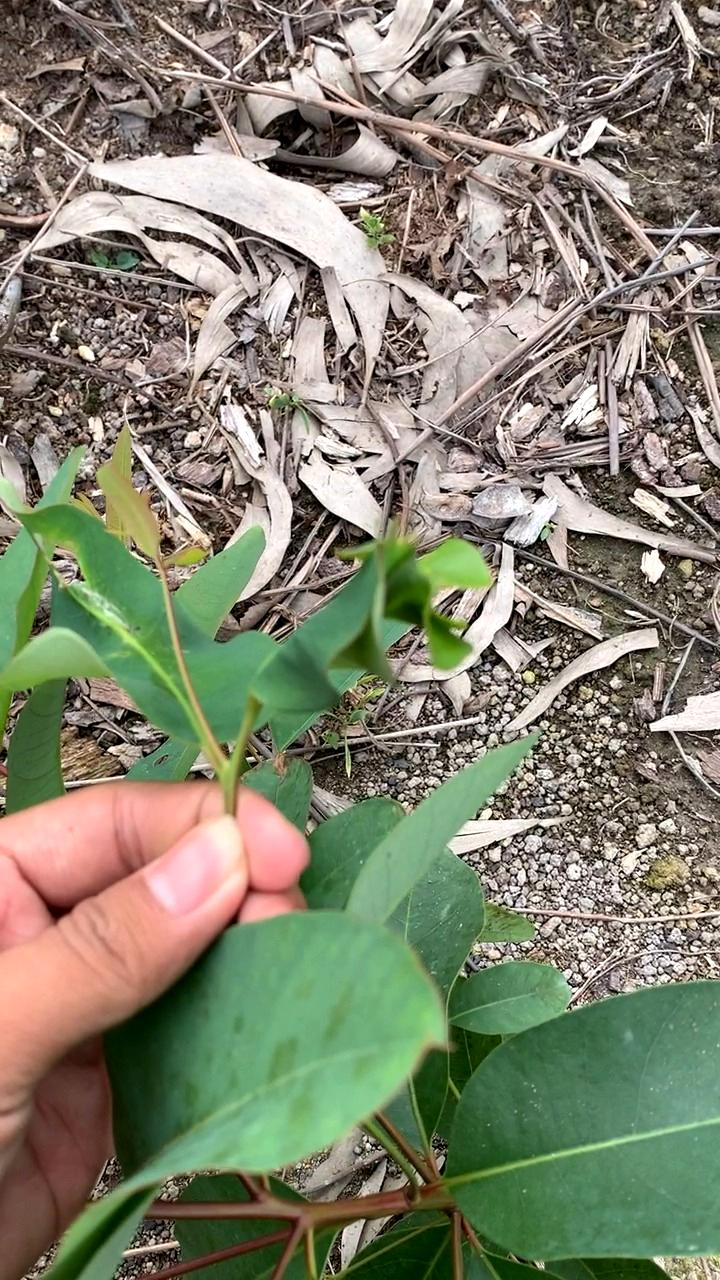Leaf Roller - Leaf: (248, 533, 493, 703)
